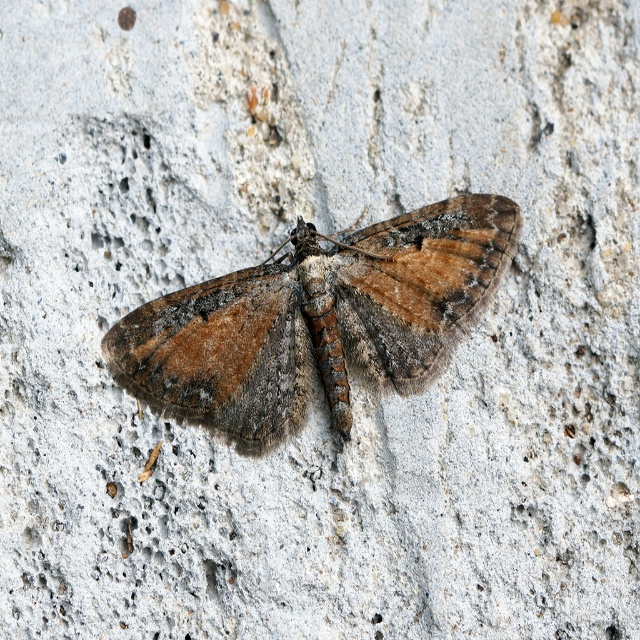Butterfly: (112, 183, 527, 463)
